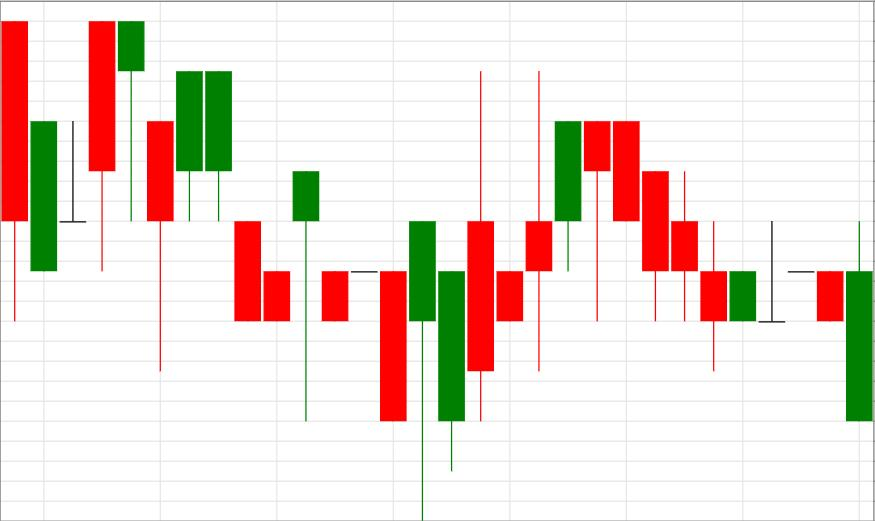hanging_man_fall: (468, 72, 611, 421)
